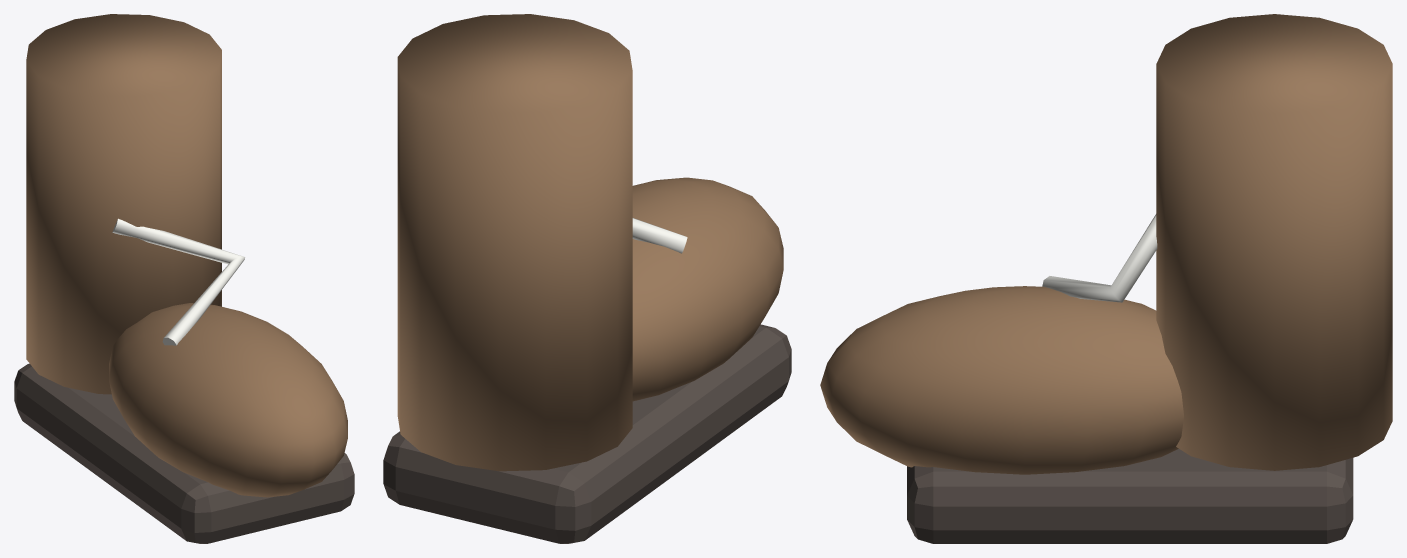
The model's file is boot.glb.
The picture shows the model from 3 angles, left to right: view 1: azimuth 30°, elevation 25°; view 2: azimuth 150°, elevation 25°; view 3: azimuth 270°, elevation 25°; orthographic projection. The views are drawn at different scales.
Visible parts, largest first — view 1: boot; view 2: boot; view 3: boot.
Part boxes in pixels (x1=…): boot: x1=14, y1=14, x2=354, y2=543; boot: x1=383, y1=14, x2=791, y2=543; boot: x1=820, y1=14, x2=1392, y2=543.
Size of the model in its own units: 0.18 by 0.37 by 0.436.
